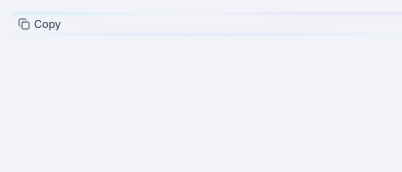
chat CopyButton › says so when nothing could copy, instead of failing silently
Click the button "Copy": {"x": 40, "y": 24} [12, 14, 67, 34]
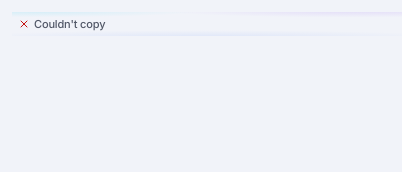
Expected: the text "Couldn't copy" is shown, [34, 16, 105, 32]
